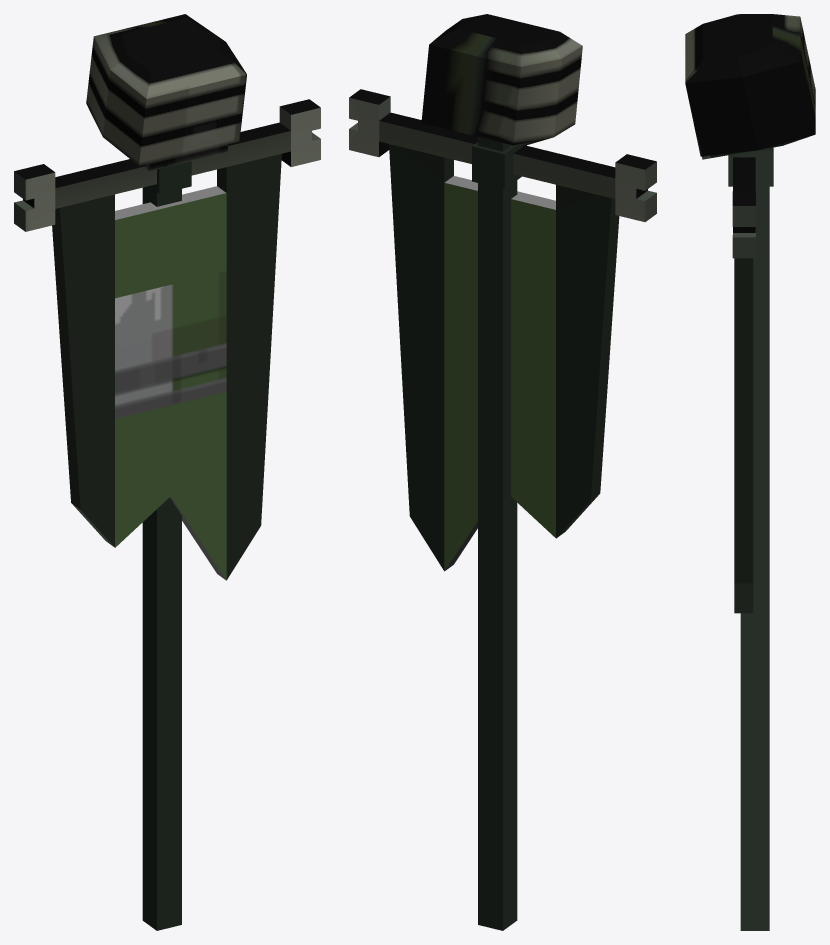
File: SF_Prop_Flag_09.glb
3 views of the same model, side by side, from view 1: azimuth 30°, elevation 25°; view 2: azimuth 150°, elevation 25°; view 3: azimuth 270°, elevation 25° (orthographic).
Visible parts, largest first — view 1: SF_Prop_Flag_09; view 2: SF_Prop_Flag_09; view 3: SF_Prop_Flag_09.
Boxes of the visible parts, bbox=[...] form: SF_Prop_Flag_09: bbox=[14, 14, 320, 930]; SF_Prop_Flag_09: bbox=[349, 14, 656, 930]; SF_Prop_Flag_09: bbox=[685, 14, 815, 930].
Size of the model in its own units: 0.0157 by 0.0452 by 0.00596.
Materials: 1 (1 with a texture image).
